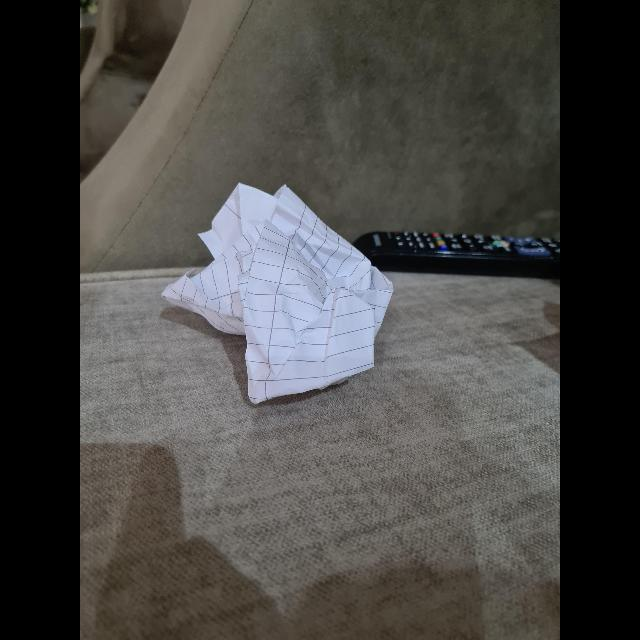scrap_paper: (173, 186, 394, 390)
